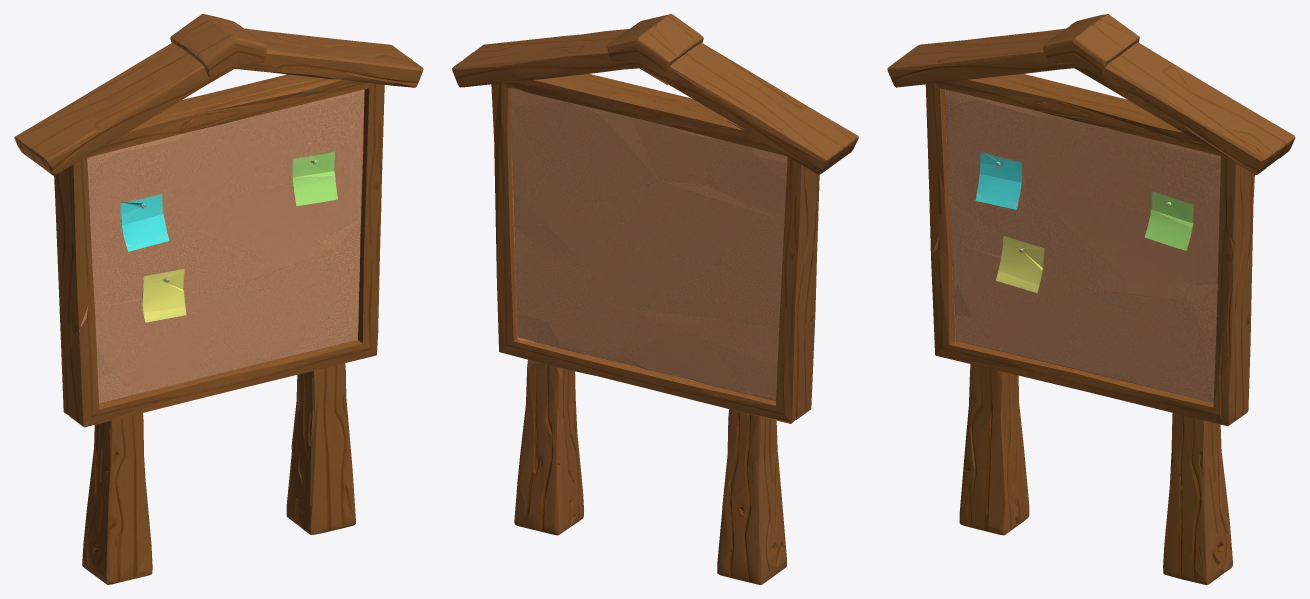
File: notice_board.glb
The picture shows the model from 3 angles, left to right: view 1: azimuth 30°, elevation 25°; view 2: azimuth 150°, elevation 25°; view 3: azimuth 330°, elevation 25°; orthographic projection.
Bounding box in the file's own units: 1.66 × 2.2 × 0.2733.
Materials: 1 (1 with a texture image).
